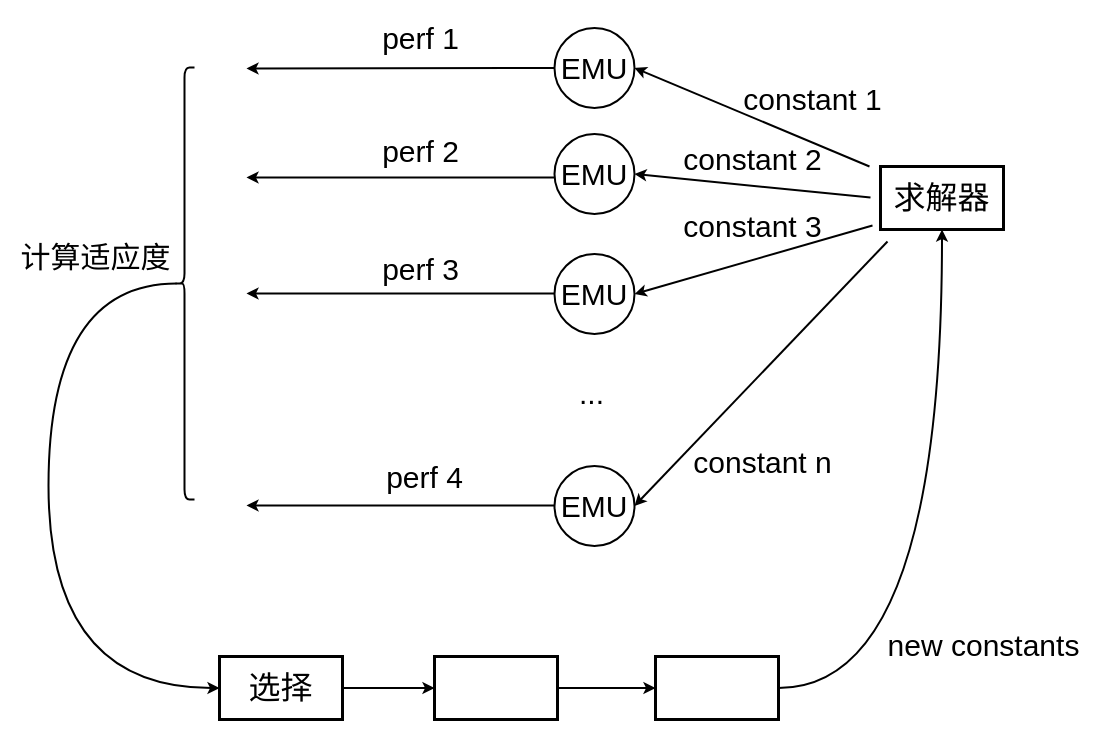
Image size: 1098x738. Some labels were removed from this diagram. Here are the shapes that lost their labels. From the top down, the box of each, then its label:
(432, 654, 558, 720): 交叉
(654, 654, 780, 720): 变异
